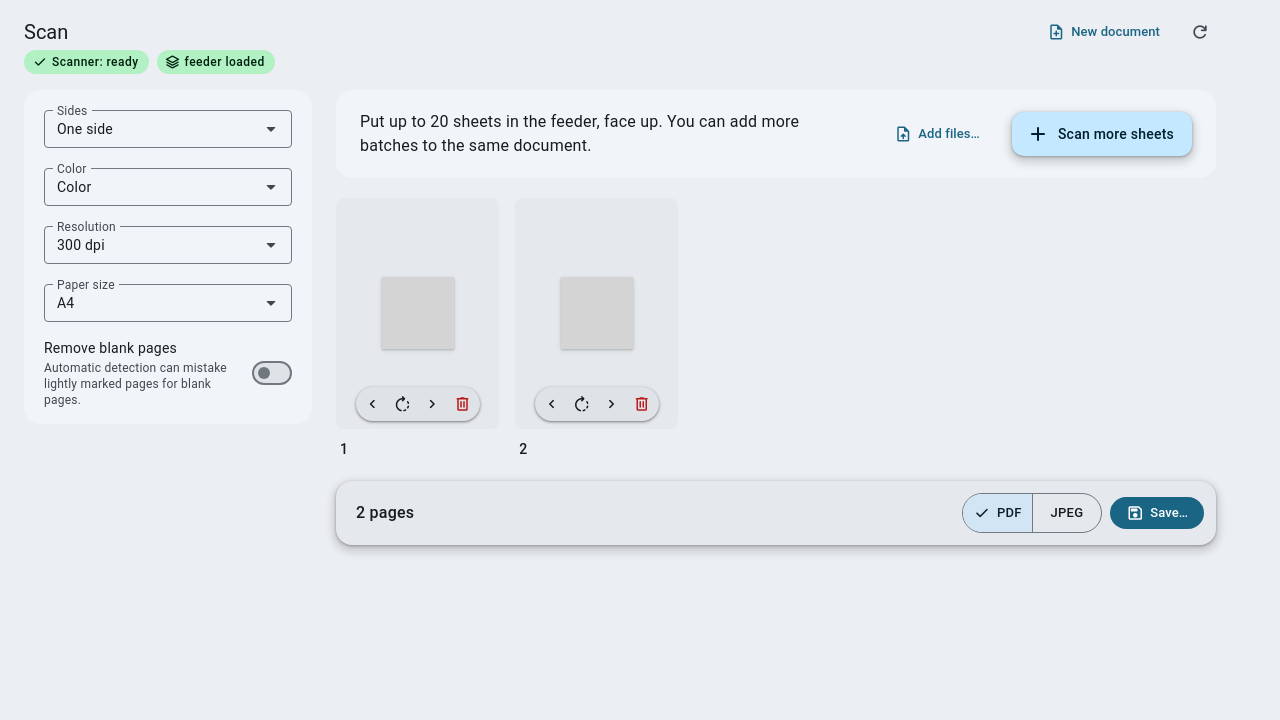
Test: scanning documents › reports earlier pages after a scan fails and clears the notice on retry
Expected: the text "2 pages" is shown, [356,503,414,523]
What coordinates should you click on to do the following:
click the button "Scan more sheets"
I would click on:
 (1102, 134)
Its box is [1012,112,1192,156].
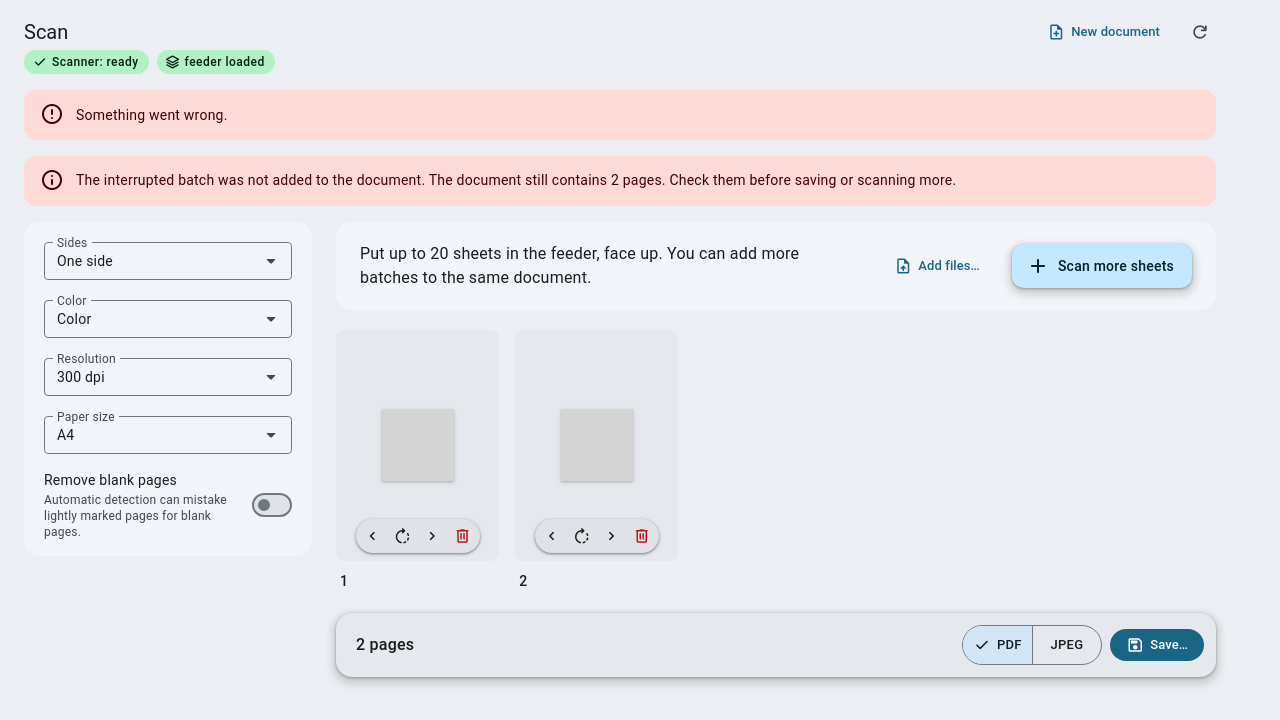
Expected: the text "interrupted batch was not added" shows "The document still contains 2 pages.", [429,172,956,188]
What coordinates should you click on to do the following:
click the button "Scan more sheets"
I would click on:
 (1102, 266)
Its box is [1012,244,1192,288].
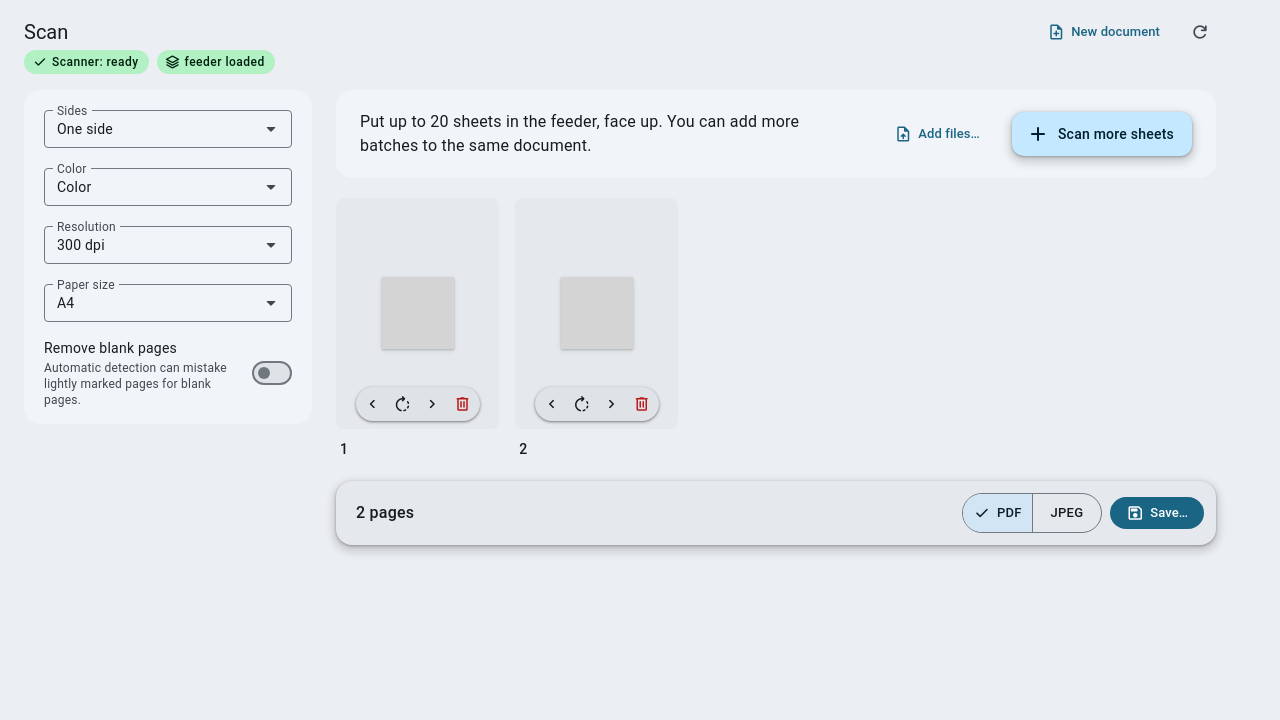
Expected: the text "interrupted batch was not added" is gone
